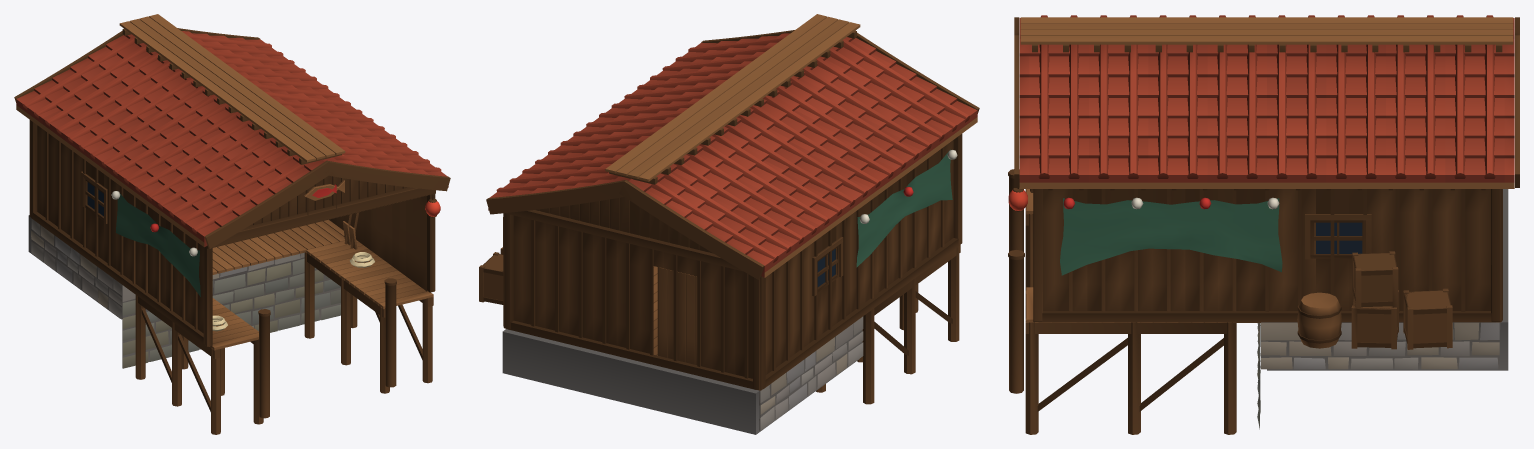
Rendered from boathouse.glb.
3 renders of one model, left to right at view 1: azimuth 30°, elevation 25°; view 2: azimuth 150°, elevation 25°; view 3: azimuth 270°, elevation 25°, orthographic. The views are drawn at different scales.
Parts seen in each view (by area): view 1: Boathouse Wood, Boathouse Roof tile, Boathouse Plaster, Boathouse Net; view 2: Boathouse Wood, Boathouse Roof tile, Boathouse Plaster, Boathouse Net; view 3: Boathouse Wood, Boathouse Roof tile, Boathouse Net, Boathouse Plaster, Boathouse Window glow.
Part boxes in pixels (box(x1,y1,x2,y2)): Boathouse Wood: box(14, 14, 450, 434); Boathouse Roof tile: box(16, 31, 448, 246); Boathouse Plaster: box(28, 191, 374, 368); Boathouse Net: box(115, 193, 200, 296); Boathouse Wood: box(479, 14, 979, 404); Boathouse Roof tile: box(488, 33, 977, 277); Boathouse Plaster: box(502, 149, 957, 434); Boathouse Net: box(856, 149, 952, 267); Boathouse Wood: box(1008, 17, 1519, 434); Boathouse Roof tile: box(1019, 15, 1514, 182); Boathouse Net: box(1060, 198, 1282, 275); Boathouse Plaster: box(1131, 189, 1508, 429); Boathouse Window glow: box(1316, 222, 1362, 253).
Size of the model in its own units: 6.9 by 5.97 by 8.27.
